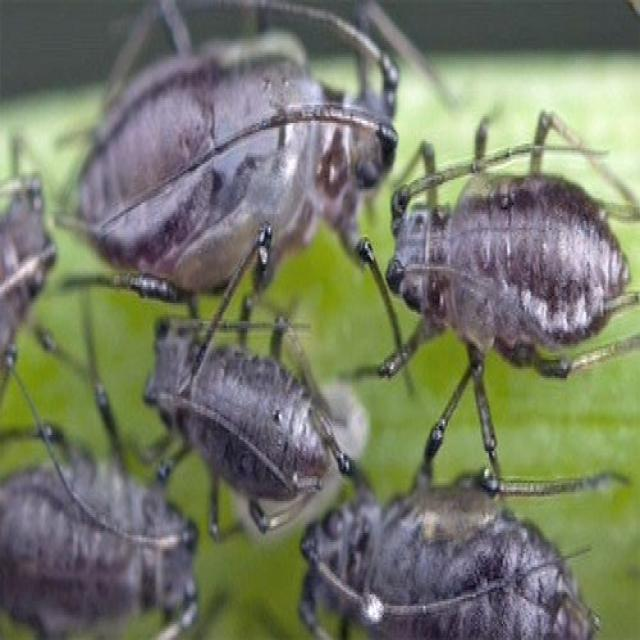Aphid-Grown-: (362, 112, 630, 428), (125, 267, 368, 536)
